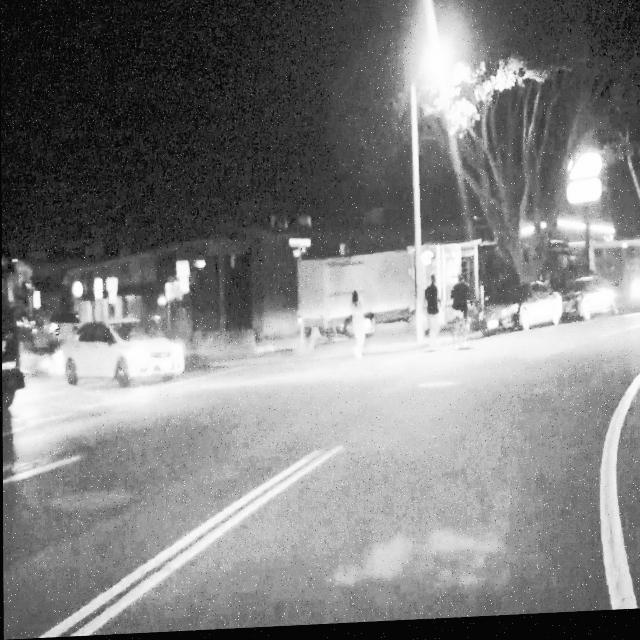Car: (59, 321, 186, 387)
Truck: (298, 254, 414, 338)
